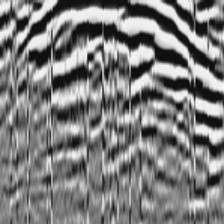cavities: (19, 1, 224, 150)
